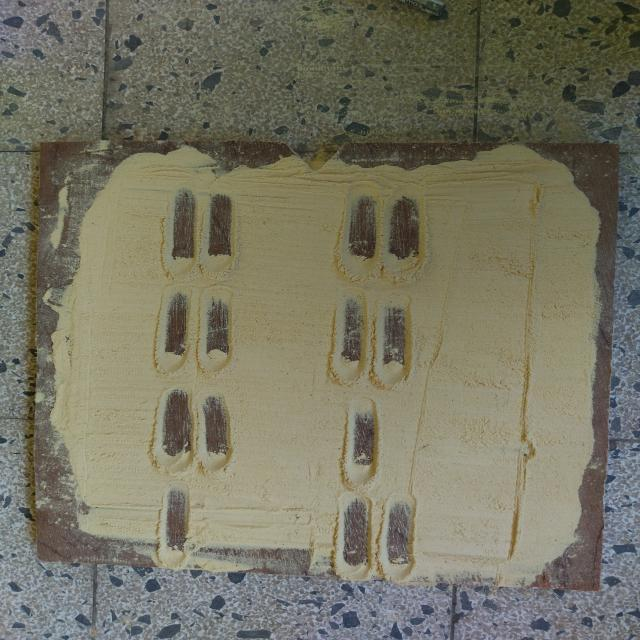double: (330, 180, 432, 293), (145, 379, 244, 484), (324, 288, 421, 390), (331, 486, 420, 586), (158, 183, 244, 285), (150, 286, 236, 376)
single: (336, 387, 389, 492), (152, 481, 200, 571)
